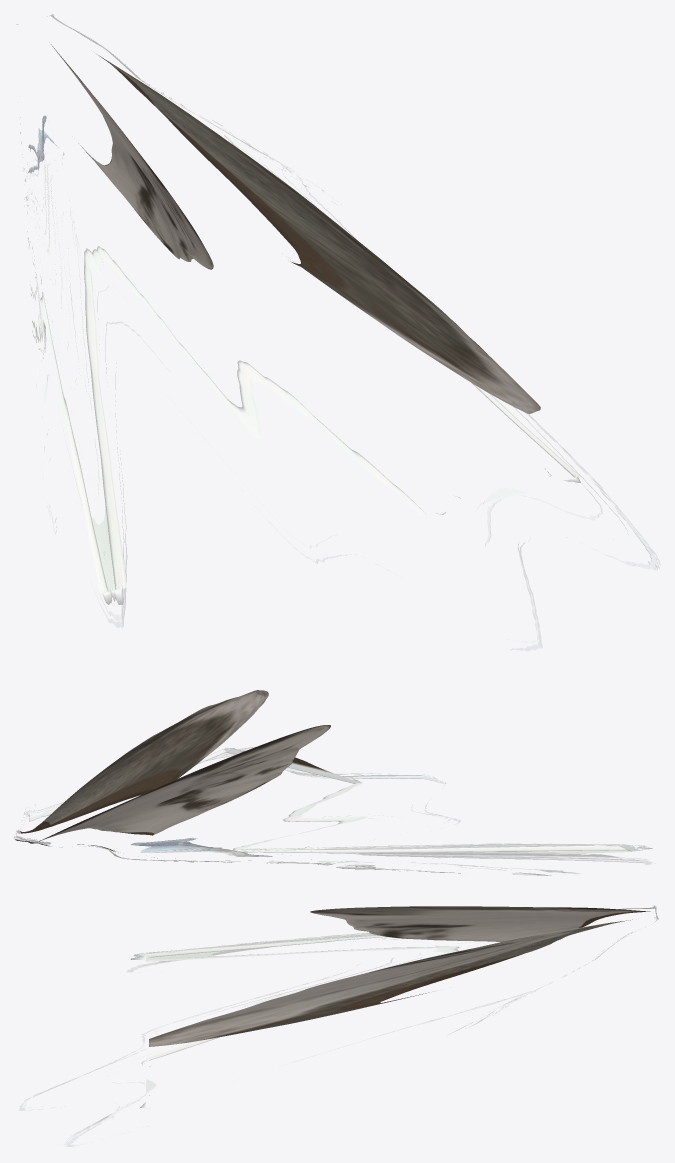
The model's file is earliest-colonial-accounts_1280x720-b3f035dca49a.glb.
3 renders of one model, top to bottom at view 1: azimuth 30°, elevation 25°; view 2: azimuth 150°, elevation 25°; view 3: azimuth 270°, elevation 25°, orthographic. The views are drawn at different scales.
Visible parts, largest first — view 1: mesh0; view 2: mesh0; view 3: mesh0.
Part boxes in pixels (x1,y1,x2,y2): mesh0: (16,14,660,651); mesh0: (14,690,654,875); mesh0: (19,905,658,1146).
Size of the model in its own units: 14.55 by 7.99 by 24.12.
Materials: 1 (1 with a texture image).
